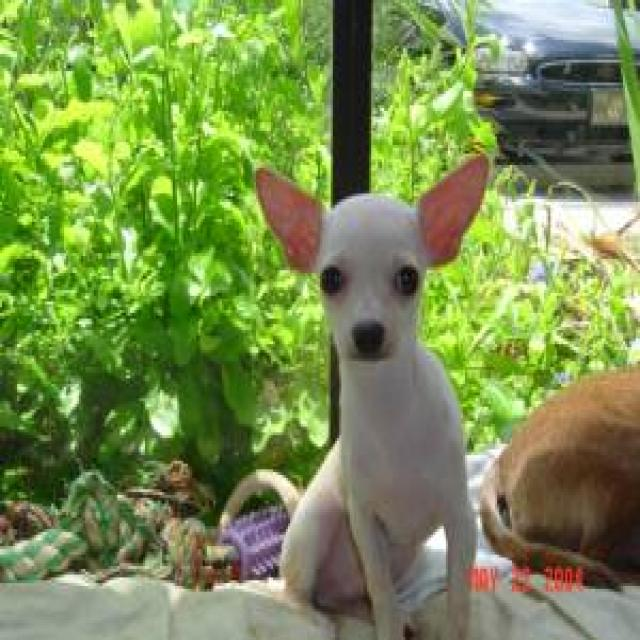dog-chihuahua: (215, 137, 636, 634)
